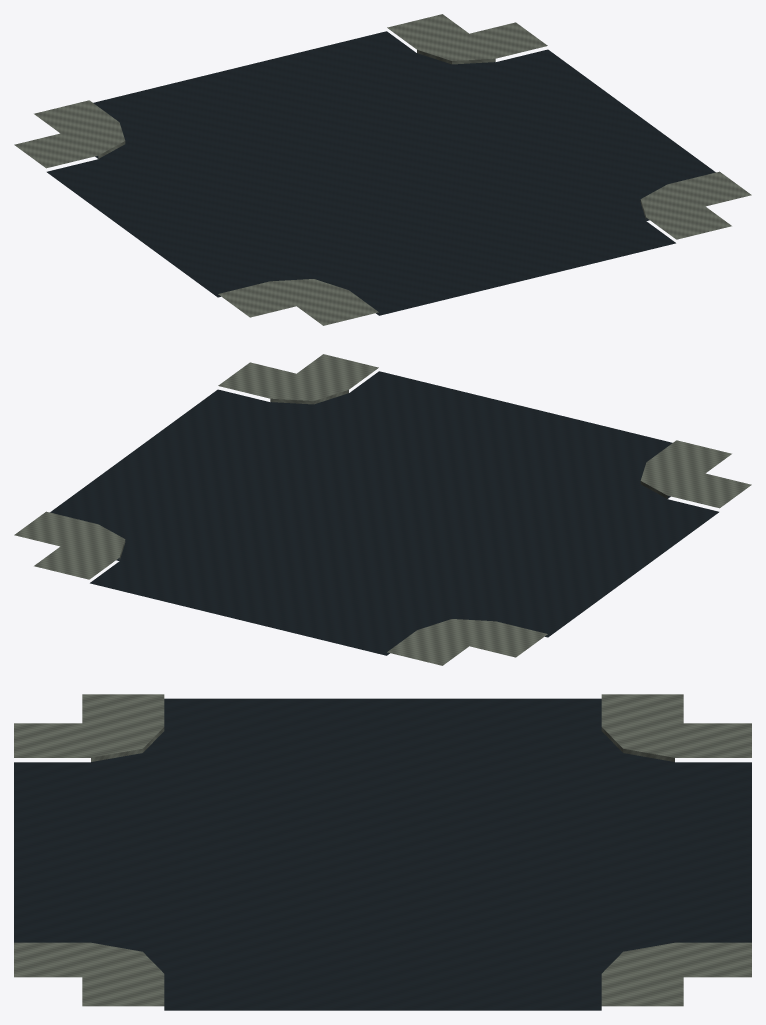
Rendered from junc_cross_4x4_ShadowProxy.glb.
3 views of the same model, one above another, from view 1: azimuth 30°, elevation 25°; view 2: azimuth 150°, elevation 25°; view 3: azimuth 270°, elevation 25° (orthographic). The views are drawn at different scales.
Visible parts, largest first — view 1: junc_cross_4x4__surface.003, junc_cross_4x4__rounded_corner_curb.003; view 2: junc_cross_4x4__surface.003, junc_cross_4x4__rounded_corner_curb.003; view 3: junc_cross_4x4__surface.003, junc_cross_4x4__rounded_corner_curb.003.
Boxes of the visible parts, x1=… form: junc_cross_4x4__surface.003: x1=47, y1=31, x2=715, y2=315; junc_cross_4x4__rounded_corner_curb.003: x1=14, y1=14, x2=751, y2=325; junc_cross_4x4__surface.003: x1=50, y1=371, x2=718, y2=655; junc_cross_4x4__rounded_corner_curb.003: x1=14, y1=354, x2=751, y2=665; junc_cross_4x4__surface.003: x1=14, y1=698, x2=751, y2=1010; junc_cross_4x4__rounded_corner_curb.003: x1=14, y1=694, x2=751, y2=1006.
Bounding box in the file's own units: 21.6 × 0.145 × 21.6.
Materials: 3 (3 with a texture image).
